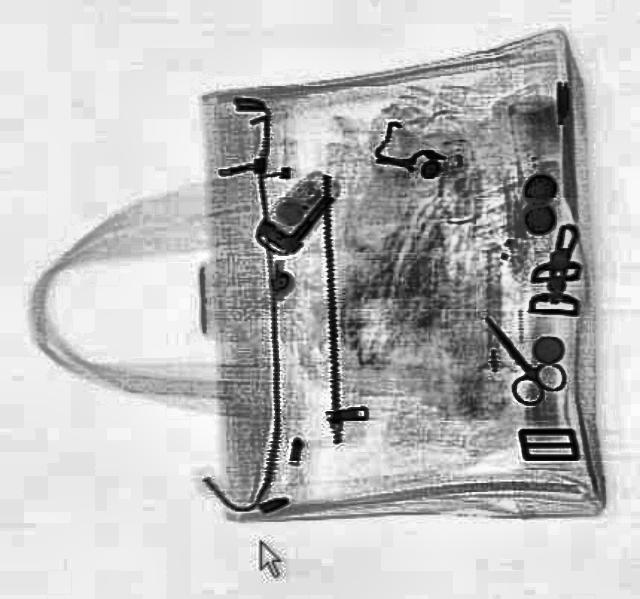Scissors: (461, 303, 571, 407)
